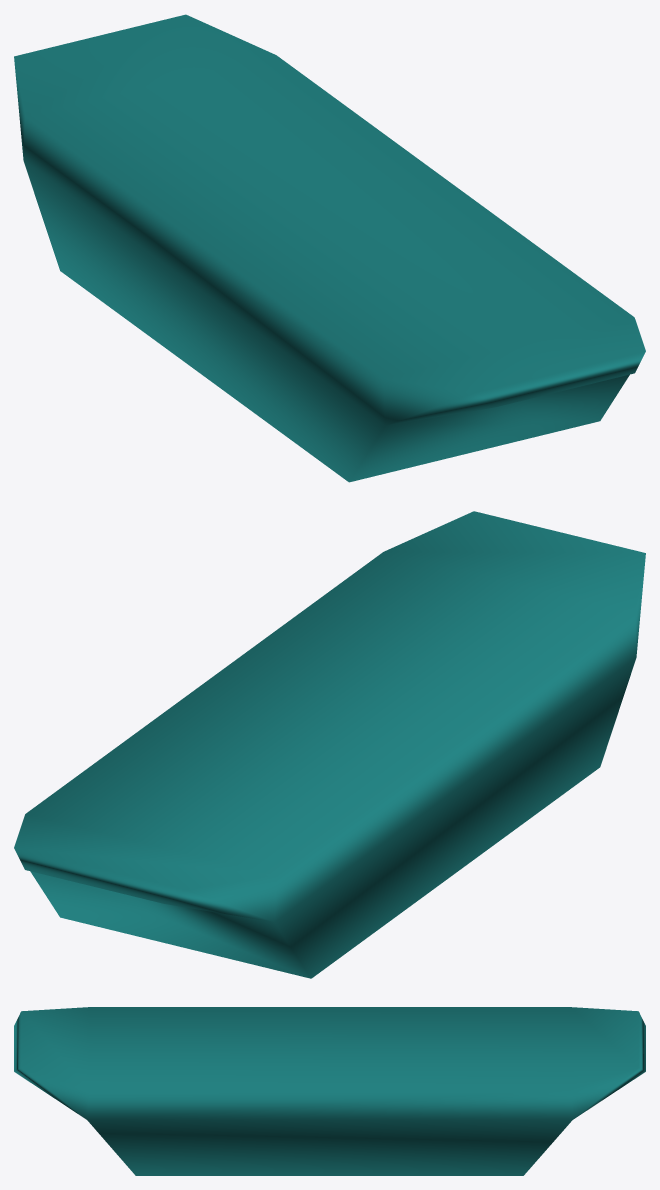
File: skateboard_collider.fbx
3 renders of one model, top to bottom at view 1: azimuth 30°, elevation 25°; view 2: azimuth 150°, elevation 25°; view 3: azimuth 270°, elevation 25°, orthographic. The views are drawn at different scales.
Visible parts, largest first — view 1: skateboard_collider; view 2: skateboard_collider; view 3: skateboard_collider.
Boxes of the visible parts, x1,y1,x2,y2 form: skateboard_collider: (14, 14, 645, 482); skateboard_collider: (14, 511, 645, 978); skateboard_collider: (14, 1007, 645, 1175).
Size of the model in its own units: 22.42 by 12.12 by 72.8.
